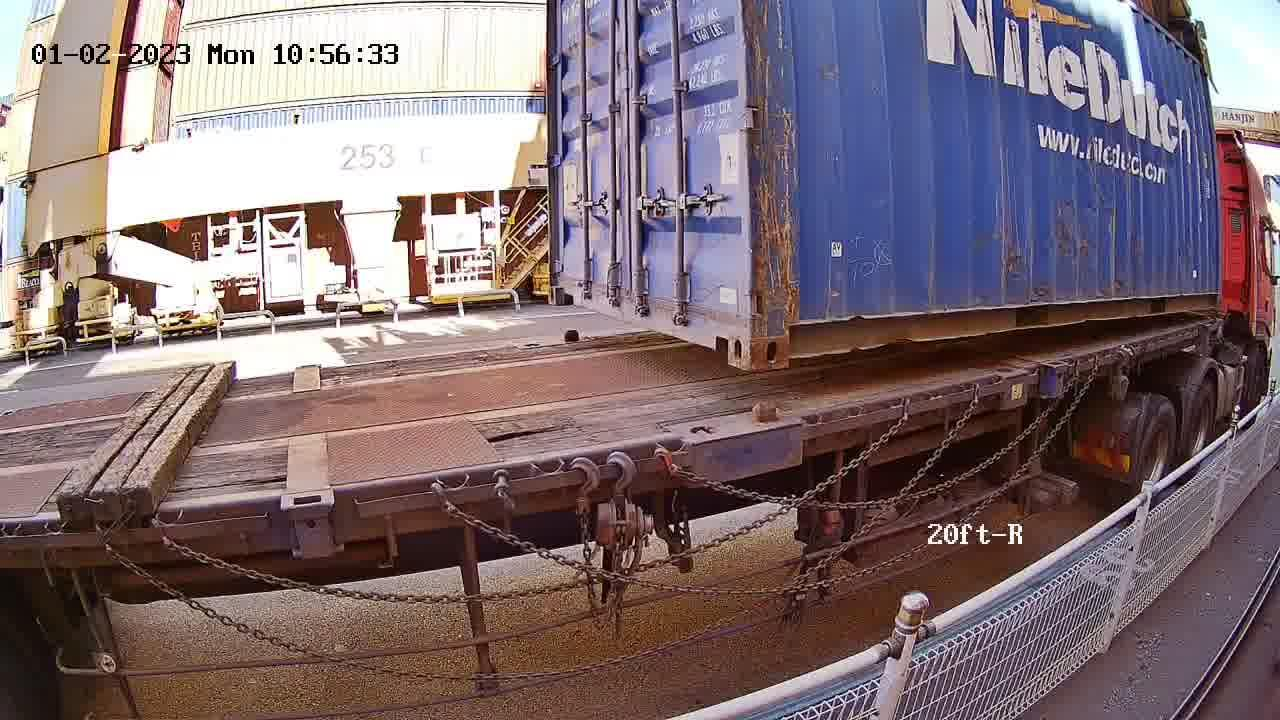Chassis: (558, 334, 792, 430), (520, 340, 729, 443)
Cone: (682, 419, 727, 484), (745, 399, 780, 472), (557, 328, 583, 345)
Hole_L: (751, 294, 820, 371), (547, 262, 578, 306)
Hole_R: (703, 288, 751, 371)
Tire: (1136, 399, 1179, 496), (1188, 384, 1216, 464)
